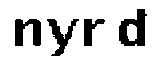d: (116, 7, 149, 50)
n: (9, 14, 44, 51)
r: (81, 16, 108, 51)
y: (45, 16, 79, 60)
